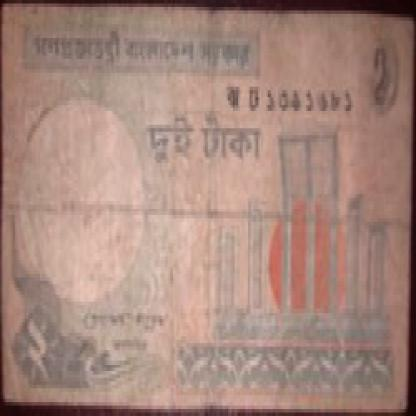two taka: (140, 100, 280, 163)
